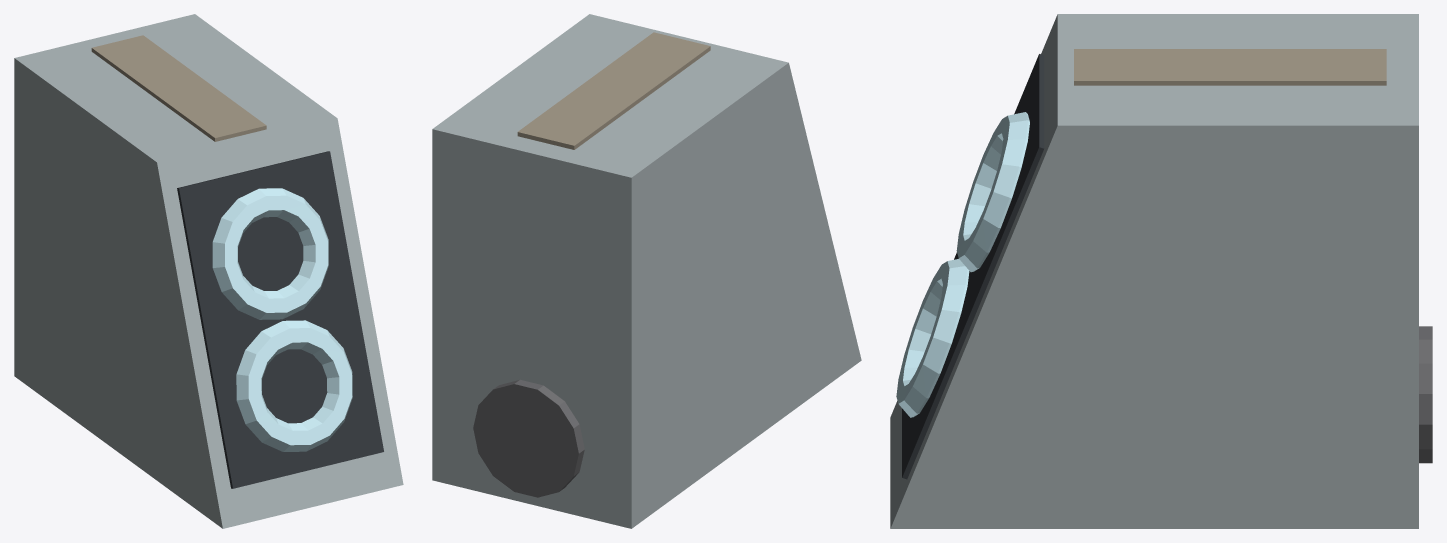
File: vge_small_electric_thruster.obj
The picture shows the model from 3 angles, left to right: view 1: azimuth 30°, elevation 25°; view 2: azimuth 150°, elevation 25°; view 3: azimuth 270°, elevation 25°; orthographic projection. The views are drawn at different scales.
Visible parts, largest first — view 1: vge_small_electric_thruster_0, vge_small_electric_thruster_1, vge_small_electric_thruster_2, vge_small_electric_thruster_3, vge_small_electric_thruster_4; view 2: vge_small_electric_thruster_0, vge_small_electric_thruster_5, vge_small_electric_thruster_4; view 3: vge_small_electric_thruster_0, vge_small_electric_thruster_4, vge_small_electric_thruster_1, vge_small_electric_thruster_3, vge_small_electric_thruster_2, vge_small_electric_thruster_5.
Part boxes in pixels (box(x1,y1,x2,y2)): vge_small_electric_thruster_0: box(14, 14, 403, 528); vge_small_electric_thruster_1: box(177, 151, 383, 488); vge_small_electric_thruster_2: box(236, 320, 352, 451); vge_small_electric_thruster_3: box(212, 188, 328, 319); vge_small_electric_thruster_4: box(91, 35, 266, 141); vge_small_electric_thruster_0: box(432, 14, 861, 528); vge_small_electric_thruster_5: box(473, 379, 584, 497); vge_small_electric_thruster_4: box(517, 32, 710, 149); vge_small_electric_thruster_0: box(890, 14, 1418, 528); vge_small_electric_thruster_4: box(1074, 49, 1386, 85); vge_small_electric_thruster_1: box(902, 54, 1044, 479); vge_small_electric_thruster_3: box(956, 112, 1029, 272); vge_small_electric_thruster_2: box(896, 259, 969, 417); vge_small_electric_thruster_5: box(1419, 326, 1432, 463).
Bounding box in the file's own units: 0.98 × 1.67 × 2.01.
